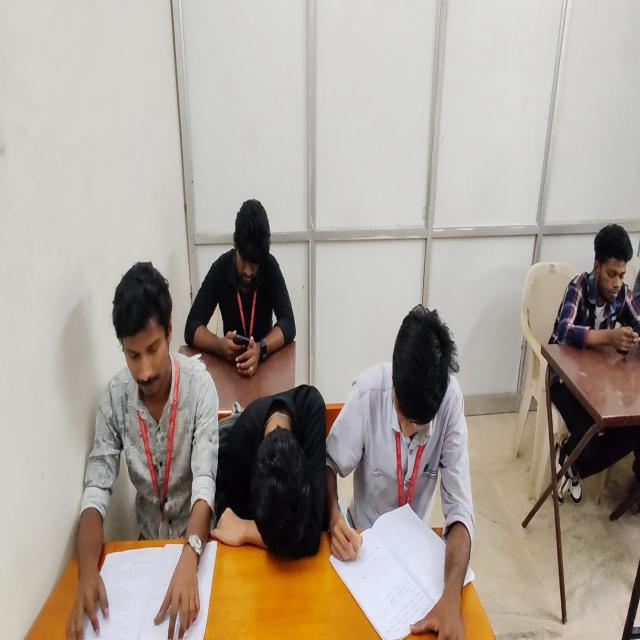reading: (71, 260, 220, 640)
sleeping: (212, 382, 324, 562)
using_mobile: (544, 223, 640, 511), (182, 197, 296, 377)
writing: (332, 304, 468, 640)
